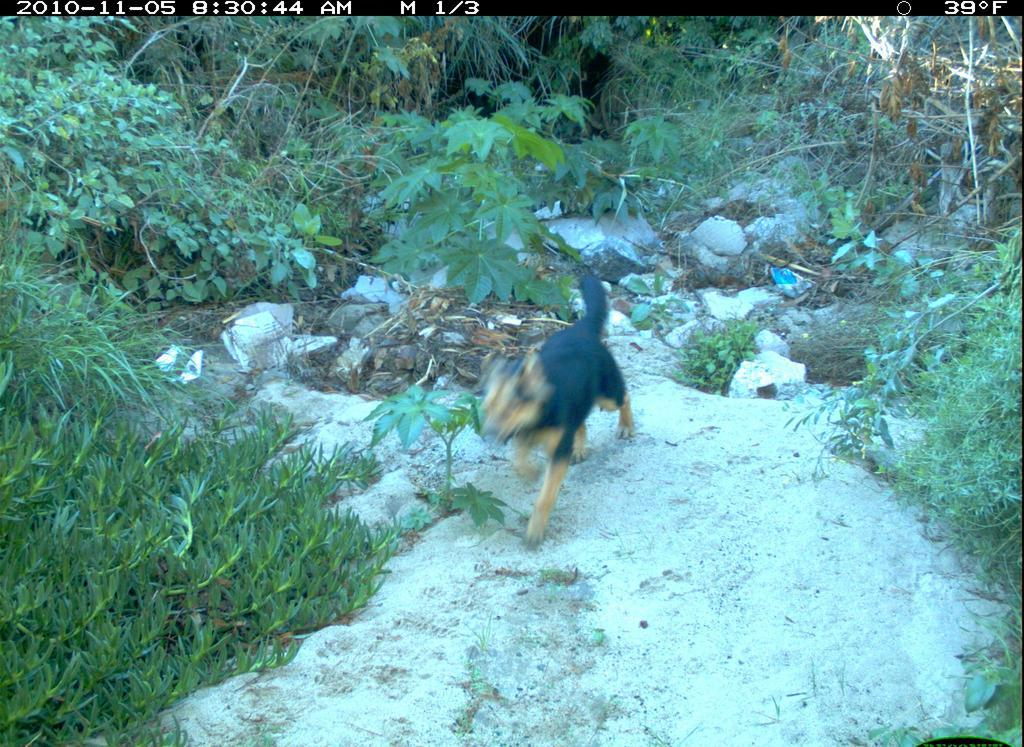dog: (464, 261, 644, 556)
